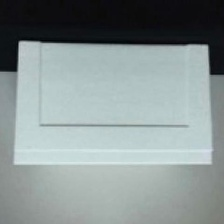foam_box: (6, 35, 218, 172)
